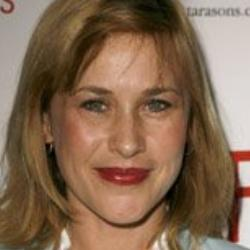face: (7, 1, 241, 242)
